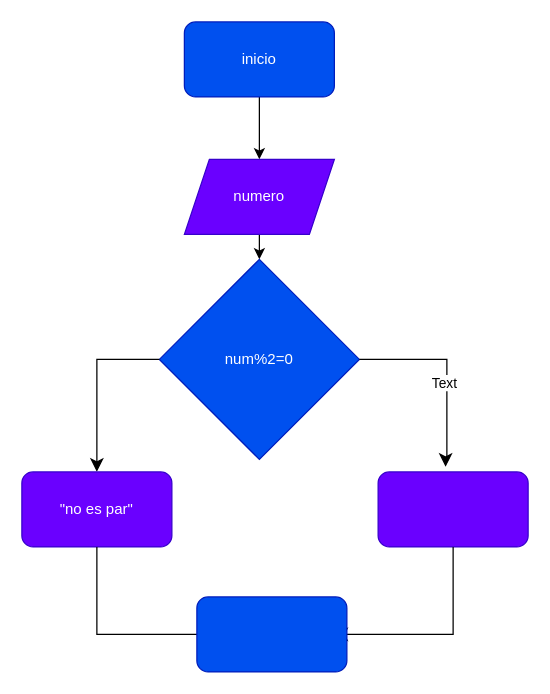
The diagram is 550 pixels wide and 694 high, and some of its shapes have lost their labels. The box of each missing label's shape, as (x1, y1, x2, y2) in pixels:
"es par": (377, 471, 528, 547)
fin: (196, 596, 347, 672)
